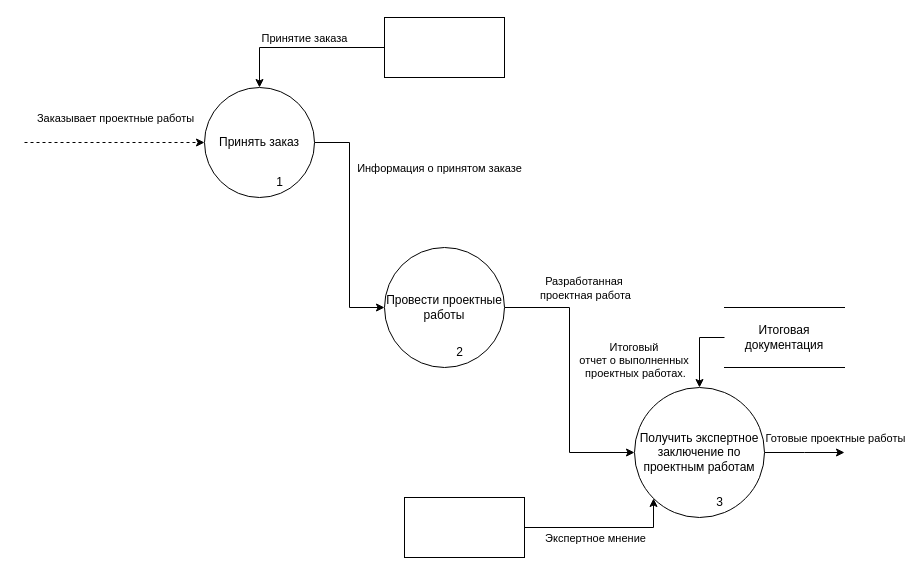
Image size: 923x575. Some labels were removed from this diagram. The shapes that lost their labels are listed below. From the top down, each one's centre as x and y in pixels, then its label:
At point 444,47: "Менеджер".
At point 464,527: "Эксперт".
